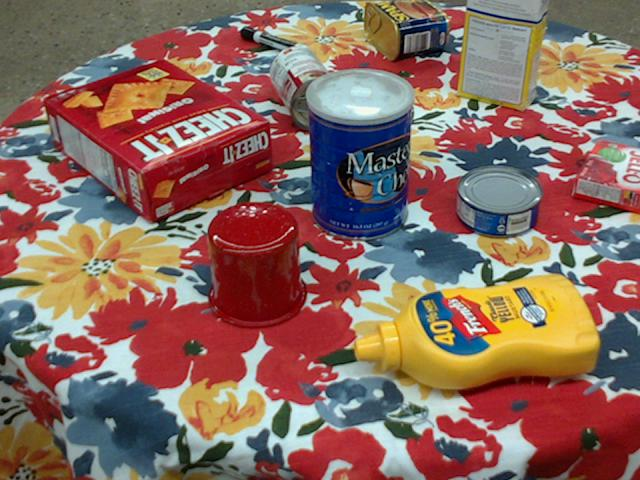cracker_box: (46, 59, 273, 221)
gelatin_box: (572, 140, 639, 214)
large_marker: (241, 25, 310, 58)
master_chef_can: (305, 67, 413, 241)
mug: (206, 200, 308, 328)
mustard_bottle: (356, 270, 602, 388)
potted_meat_can: (364, 0, 449, 59)
sugar_box: (457, 0, 550, 111)
tomato_soup_can: (268, 45, 346, 130)
tuna_fish_can: (458, 166, 544, 238)
